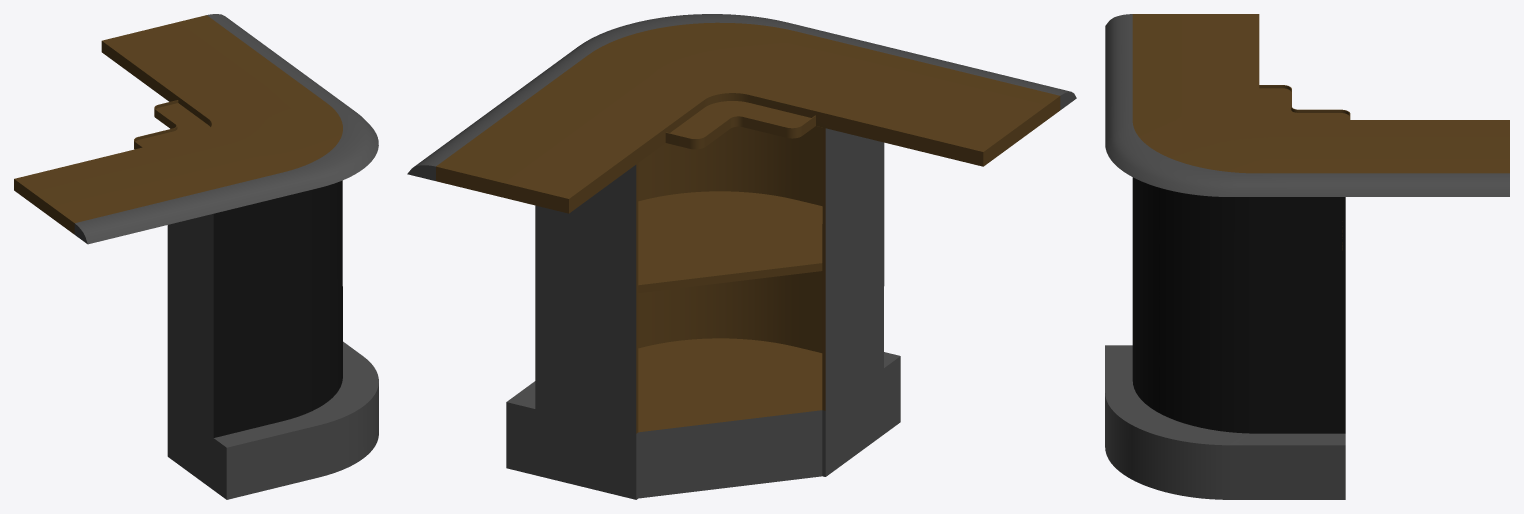
The model's file is Bar.fbx.
The picture shows the model from 3 angles, left to right: view 1: azimuth 30°, elevation 25°; view 2: azimuth 150°, elevation 25°; view 3: azimuth 270°, elevation 25°; orthographic projection. The views are drawn at different scales.
Visible parts, largest first — view 1: Bar; view 2: Bar; view 3: Bar.
Part boxes in pixels (x1,y1,x2,y2): Bar: (14,14,378,499); Bar: (407,14,1076,499); Bar: (1105,14,1509,499).
Size of the model in its own units: 121 by 104 by 121.
